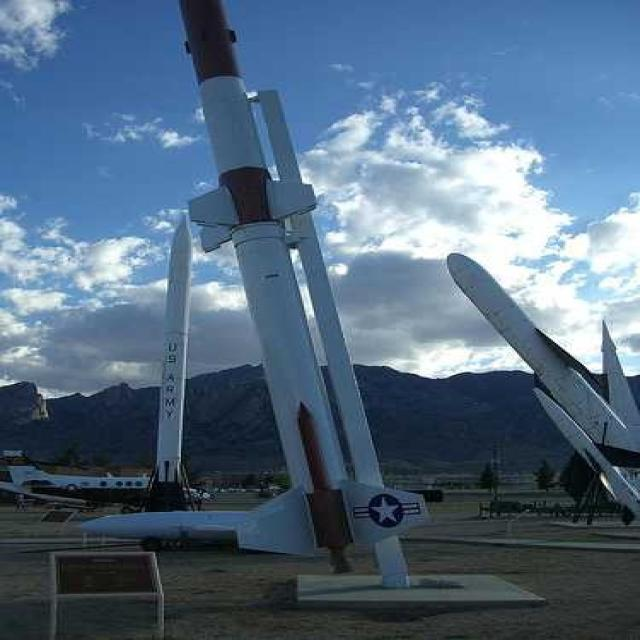missile: (440, 248, 640, 471), (156, 214, 192, 487)
